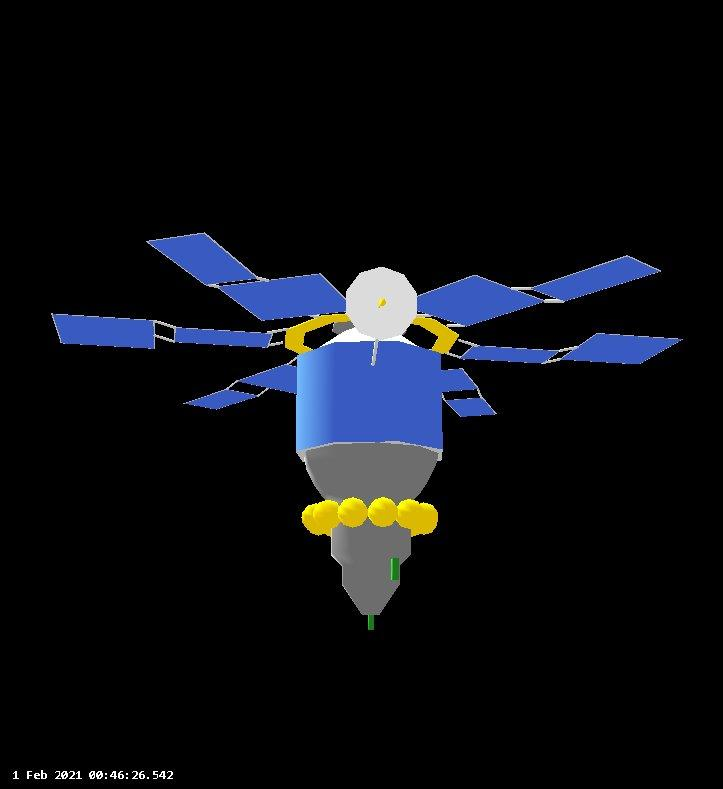antenna: (342, 263, 420, 341)
body: (284, 325, 442, 624)
solar: (406, 252, 664, 332), (142, 228, 353, 321), (50, 308, 278, 355), (177, 349, 324, 414), (459, 330, 689, 369), (432, 359, 501, 420)
thruster: (384, 552, 403, 586), (362, 605, 379, 634)
